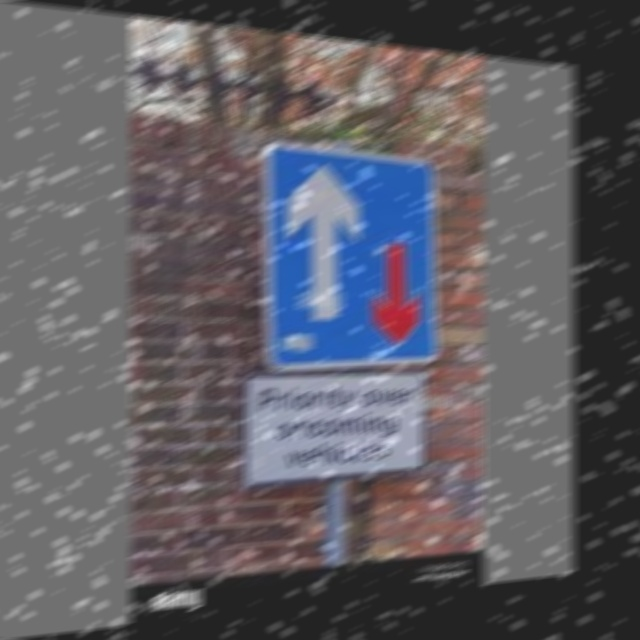Priority_for_Oncoming_Traffic: (273, 148, 435, 362)
